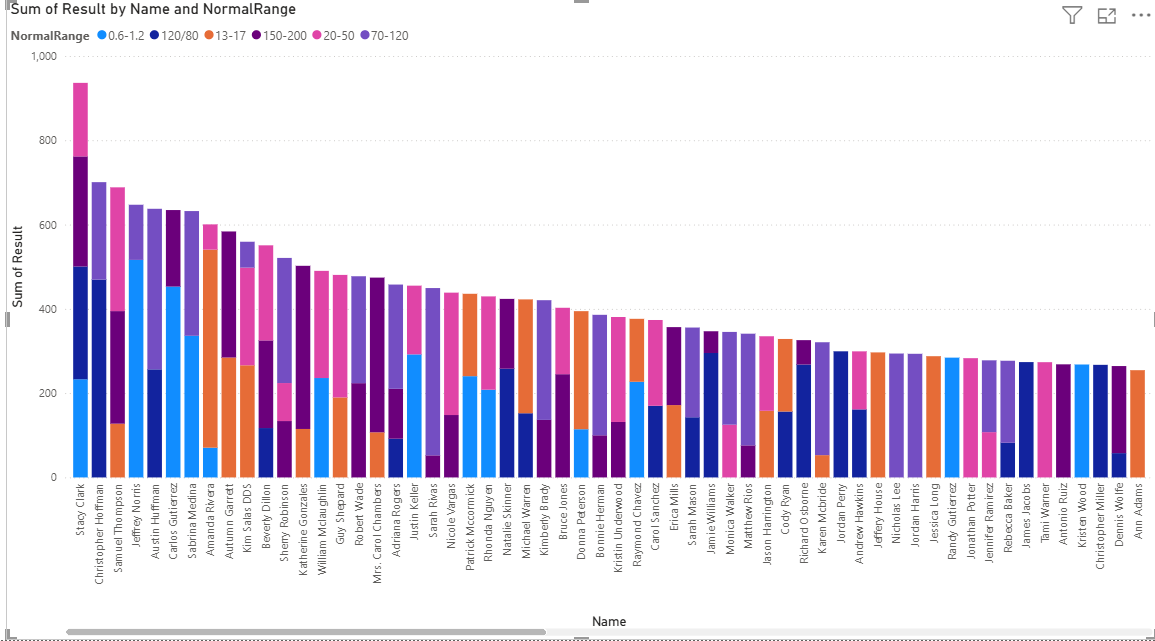

The page's visual inventory and layout, read from the dashboard file:
{"tool":"powerbi","page":{"name":"Patient and Reports","canvas":[1280,720],"ordinal":0},"visuals":[{"type":"columnChart","fields":{"Category":["Patients.Name"],"Y":["Sum(Labs.Result)"],"Series":["Labs.NormalRange"]},"box":[16.5,16.5,1263.8,703.9],"z":0}]}

Visuals, with their boxes on the page's 1280x720 design canvas (x1, y1, x2, y2). These are canvas units, not pixel positions in the 1155x641 screenshot, which may show the page scaled, cropped or inside an application window:
columnChart - Patients.Name x Sum(Labs.Result): 16/16/1280/720
